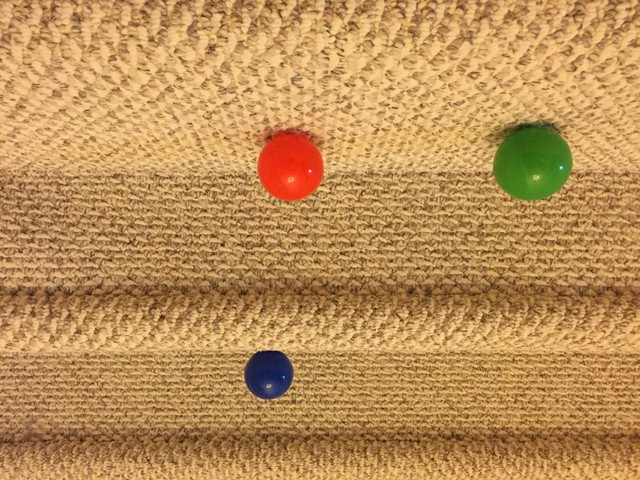Ball: (256, 134, 322, 201)
